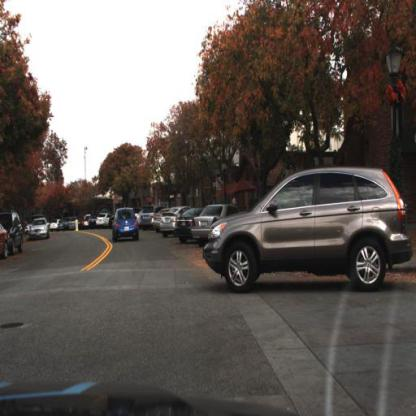car: (201, 160, 411, 292), (193, 204, 246, 249), (2, 212, 26, 257), (160, 201, 189, 238), (115, 206, 140, 244), (178, 204, 203, 227), (30, 218, 51, 241), (1, 225, 9, 262), (96, 213, 109, 229), (49, 219, 59, 235)
